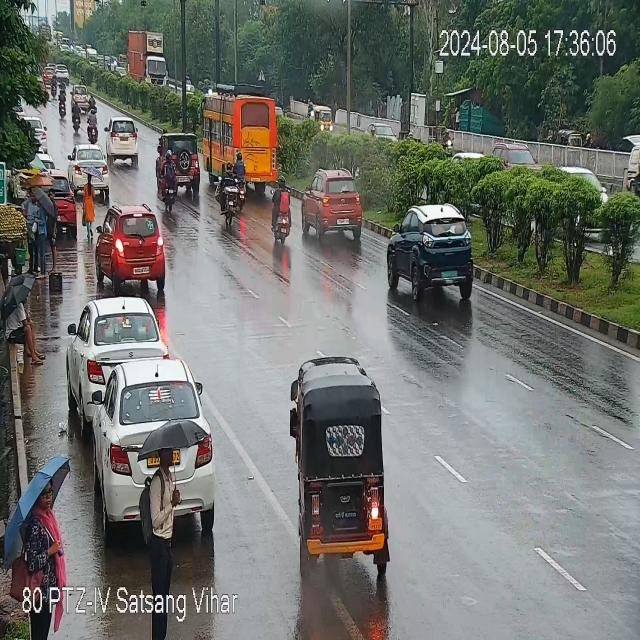2-wheelers: (216, 156, 243, 222), (272, 171, 290, 250), (163, 152, 177, 206), (72, 98, 82, 132), (58, 88, 68, 120), (90, 108, 98, 144), (89, 94, 95, 104)
auto: (302, 357, 397, 578)
bus: (206, 86, 287, 196)
car: (94, 362, 204, 494), (68, 296, 161, 401), (385, 204, 474, 303), (94, 208, 170, 297), (304, 168, 370, 243), (154, 132, 198, 203), (64, 143, 111, 190), (106, 117, 140, 163), (51, 168, 74, 231), (72, 84, 86, 104)
pedestrian: (151, 440, 180, 596), (0, 278, 47, 366), (28, 474, 61, 592), (11, 183, 53, 275), (83, 169, 95, 239)
truck: (125, 27, 167, 83)
